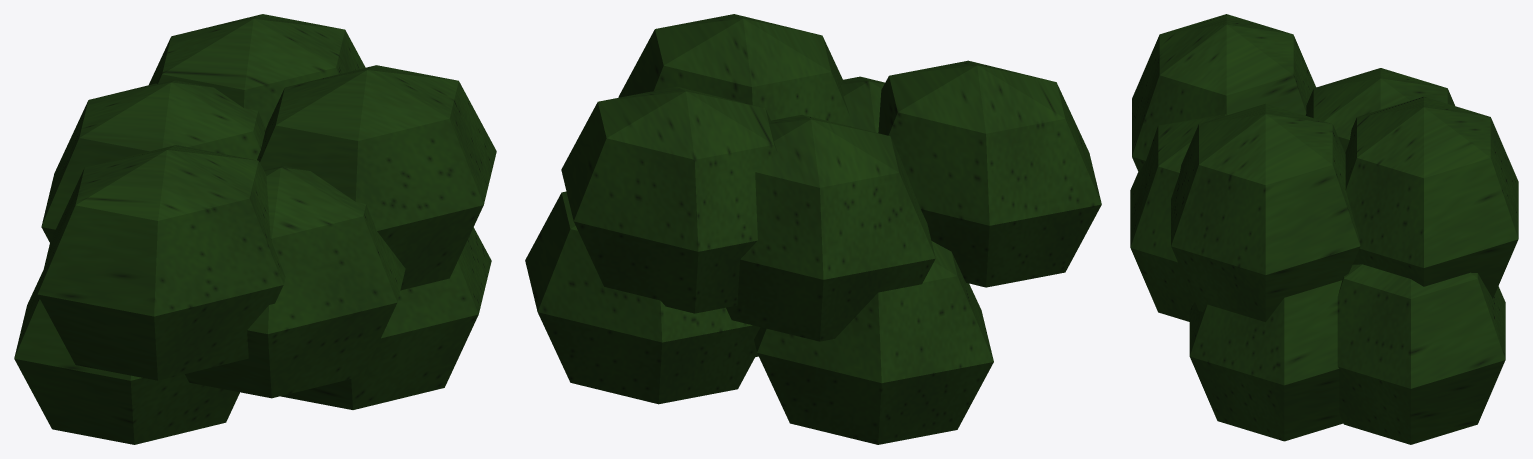
The model's file is PROP-1E72768CE36F_lod2.glb.
The picture shows the model from 3 angles, left to right: view 1: azimuth 30°, elevation 25°; view 2: azimuth 150°, elevation 25°; view 3: azimuth 270°, elevation 25°; orthographic projection. The views are drawn at different scales.
Visible parts, largest first — view 1: foliage.004; view 2: foliage.004; view 3: foliage.004.
Boxes of the visible parts, box(x1,y1,x2,y2) form: foliage.004: box(14, 14, 496, 444); foliage.004: box(525, 14, 1101, 444); foliage.004: box(1130, 14, 1518, 444).
Size of the model in its own units: 1.15 by 0.7983 by 0.8519.
Materials: 1 (1 with a texture image).
